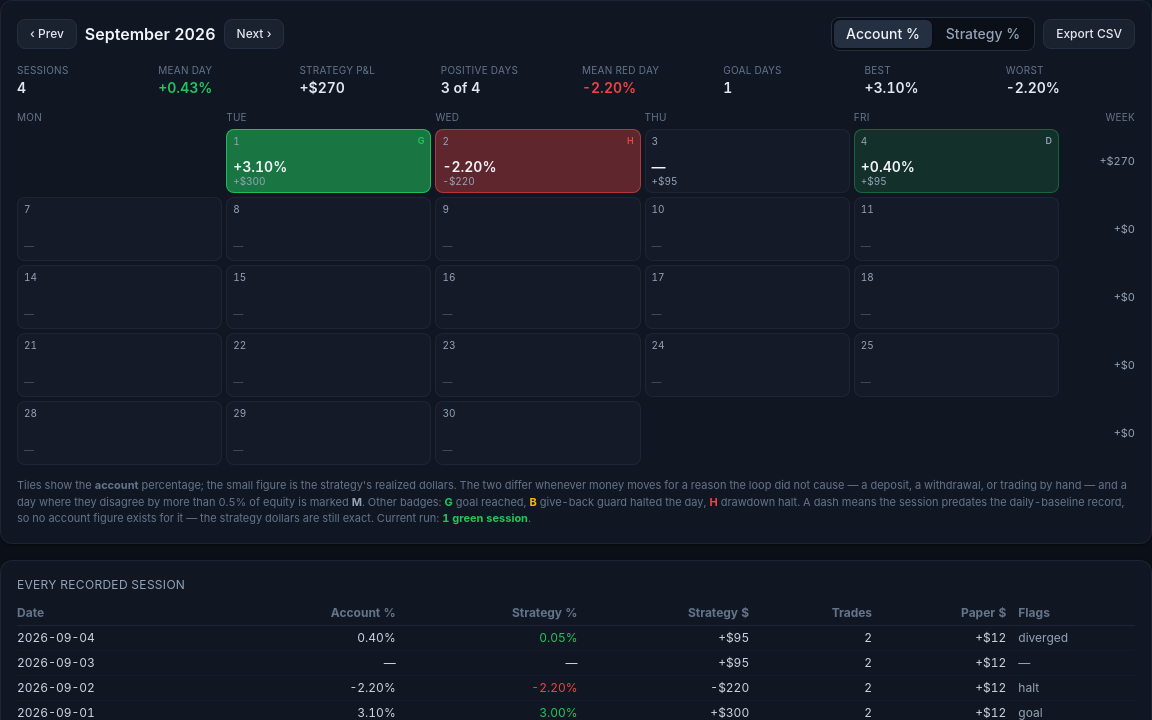
Test case: DailyResultsPage › the toggle switches which percentage the tiles show
Expected: the element with test id "results-calendar" is shown, [17, 110, 1135, 465]
Expected: the text "+0.40%" is shown, [861, 158, 915, 175]
Click the tab "Strategy %" at (983, 34), box [934, 20, 1032, 48]
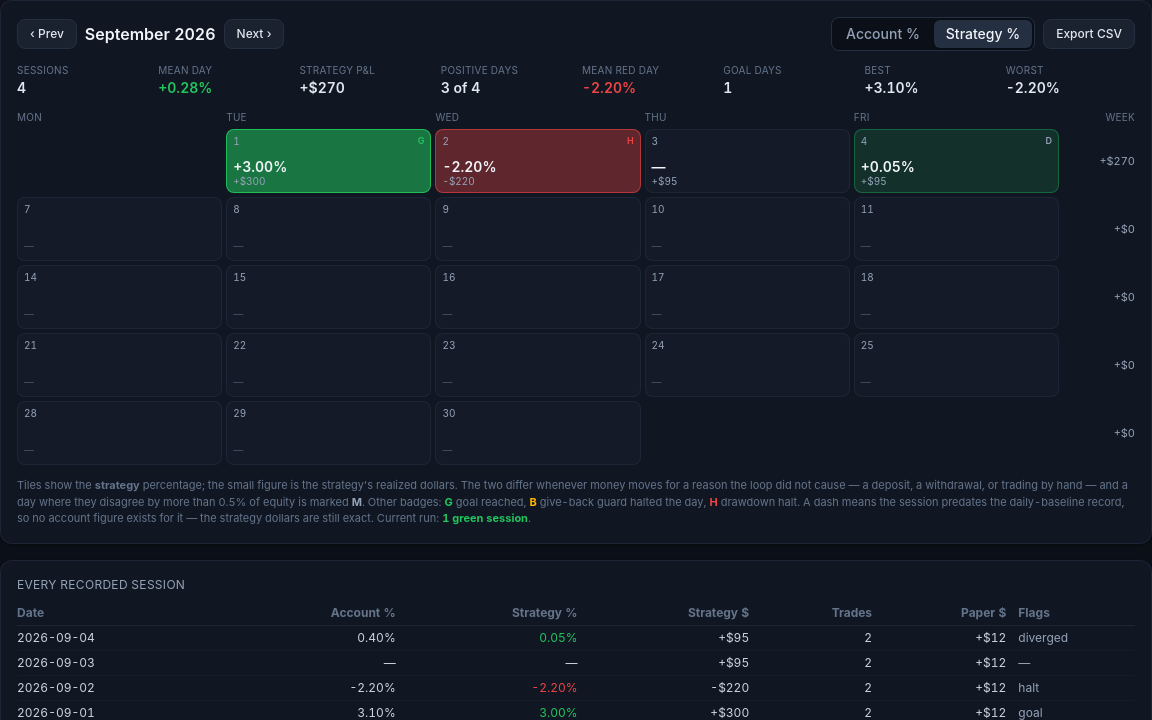
Expected: the text "+0.05%" is shown, [861, 158, 915, 175]
